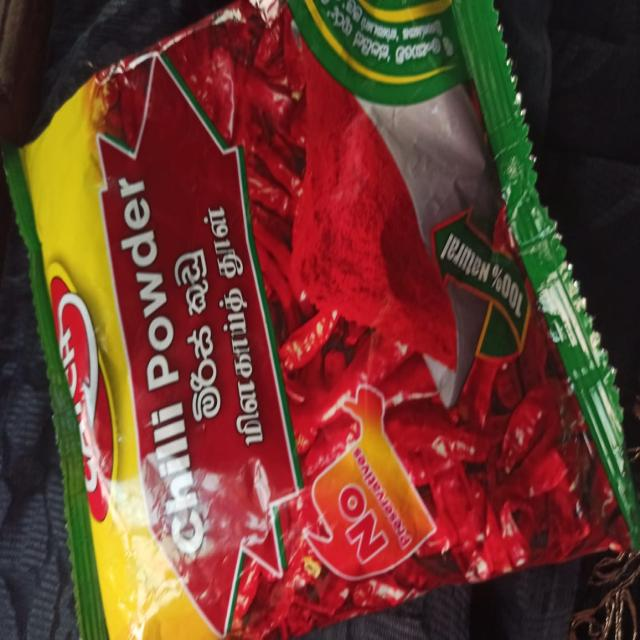Chilli Powder: (1, 0, 640, 640)
